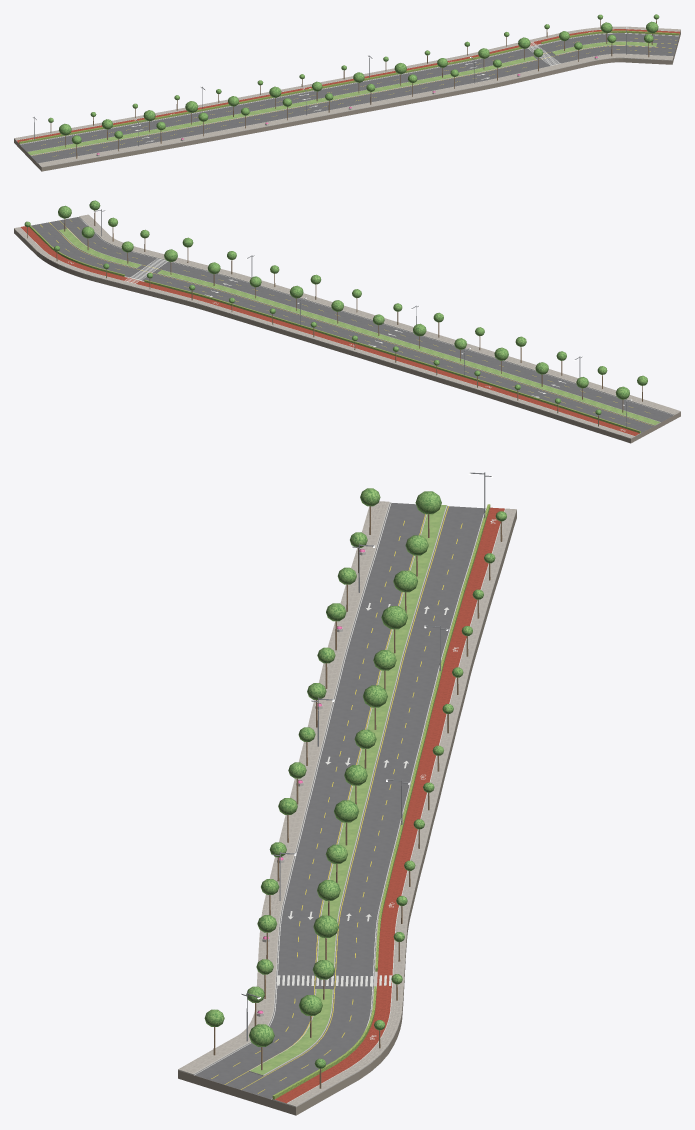
File: avenida_1.glb
The picture shows the model from 3 angles, top to bottom: view 1: azimuth 30°, elevation 25°; view 2: azimuth 150°, elevation 25°; view 3: azimuth 270°, elevation 25°; orthographic projection. The views are drawn at different scales.
Visible parts, largest first — view 1: avenida_1; view 2: avenida_1; view 3: avenida_1.
Boxes of the visible parts, x1,y1,x2,y2 form: avenida_1: (14,14,680,171); avenida_1: (14,200,680,443); avenida_1: (178,472,516,1115).
Size of the model in its own units: 235 by 10.49 by 55.54.
14 materials, 7 textured.
